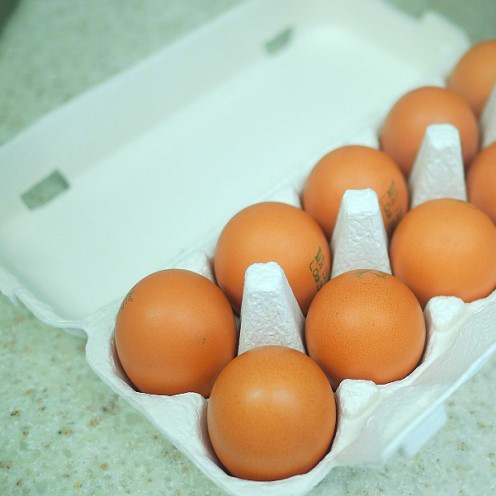egg: (114, 37, 495, 472)
